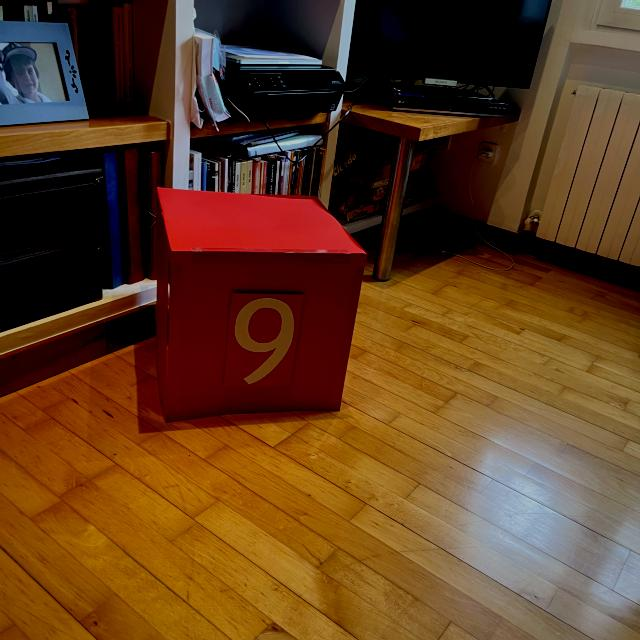box: (148, 182, 368, 424)
